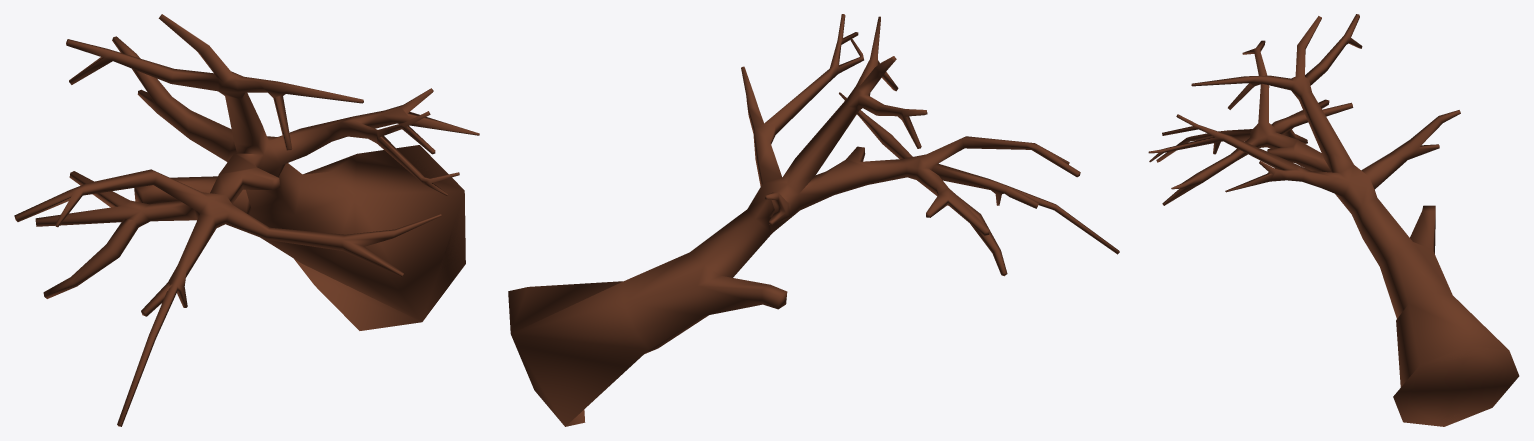
File: tree1.fbx
The picture shows the model from 3 angles, left to right: view 1: azimuth 30°, elevation 25°; view 2: azimuth 150°, elevation 25°; view 3: azimuth 270°, elevation 25°; orthographic projection. The views are drawn at different scales.
Visible parts, largest first — view 1: Plane.002; view 2: Plane.002; view 3: Plane.002.
Boxes of the visible parts, x1,y1,x2,y2 form: Plane.002: (14,14,479,426); Plane.002: (508,14,1119,426); Plane.002: (1148,14,1519,426).
Size of the model in its own units: 1583 by 1219 by 1305.
